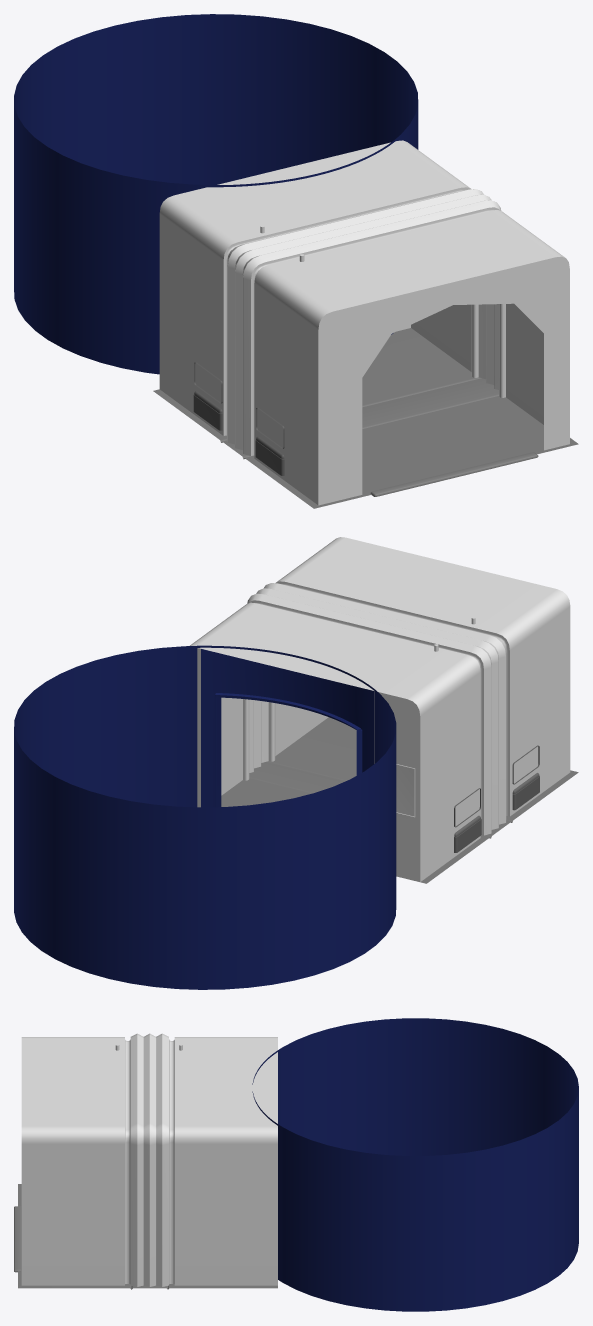
File: ToElevatorCorridor.fbx
3 views of the same model, one above another, from view 1: azimuth 30°, elevation 25°; view 2: azimuth 150°, elevation 25°; view 3: azimuth 270°, elevation 25° (orthographic). The views are drawn at different scales.
Visible parts, largest first — view 1: ShaftElevator, Box082, Object062, Object050, Object, Object059, Object061, MainDoor014, SofaRehab001, SofaRehab; view 2: ShaftElevator, Box082, Object, Object050, Object062, Object059, Object061, SofaRehab, SofaRehab001; view 3: ShaftElevator, Box082, Object, Object059, Object050, MainDoor014.
Part boxes in pixels (<box>): ShaftElevator: <box>14,14,418,374</box>; Box082: <box>159,140,565,504</box>; Object062: <box>318,256,569,505</box>; Object050: <box>153,328,578,508</box>; Object: <box>227,189,501,455</box>; Object059: <box>223,187,505,455</box>; Object061: <box>221,378,498,458</box>; MainDoor014: <box>370,452,538,496</box>; SofaRehab001: <box>193,362,222,430</box>; SofaRehab: <box>255,407,284,475</box>; ShaftElevator: <box>14,645,396,989</box>; Box082: <box>190,537,570,881</box>; Object: <box>247,583,506,835</box>; Object050: <box>221,717,578,883</box>; Object062: <box>197,648,420,881</box>; Object059: <box>243,581,509,835</box>; Object061: <box>249,762,511,837</box>; SofaRehab: <box>512,745,539,810</box>; SofaRehab001: <box>454,788,481,852</box>; ShaftElevator: <box>252,1018,578,1311</box>; Box082: <box>21,1037,277,1285</box>; Object: <box>130,1033,168,1286</box>; Object059: <box>125,1039,174,1284</box>; Object050: <box>18,1184,277,1289</box>; MainDoor014: <box>14,1206,21,1272</box>.
Size of the model in its own units: 730 by 398 by 1266.
